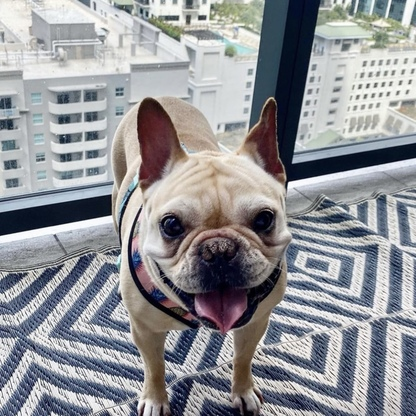bulldog: (109, 91, 295, 416)
